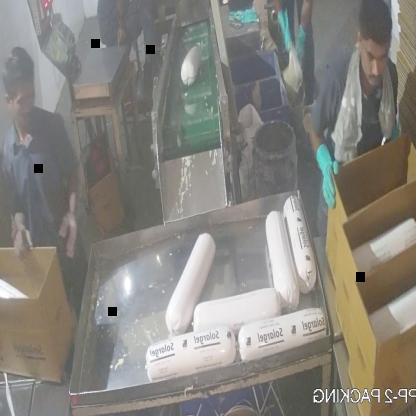glove: (314, 131, 344, 216)
no_glove: (58, 154, 86, 267), (6, 191, 37, 266)
